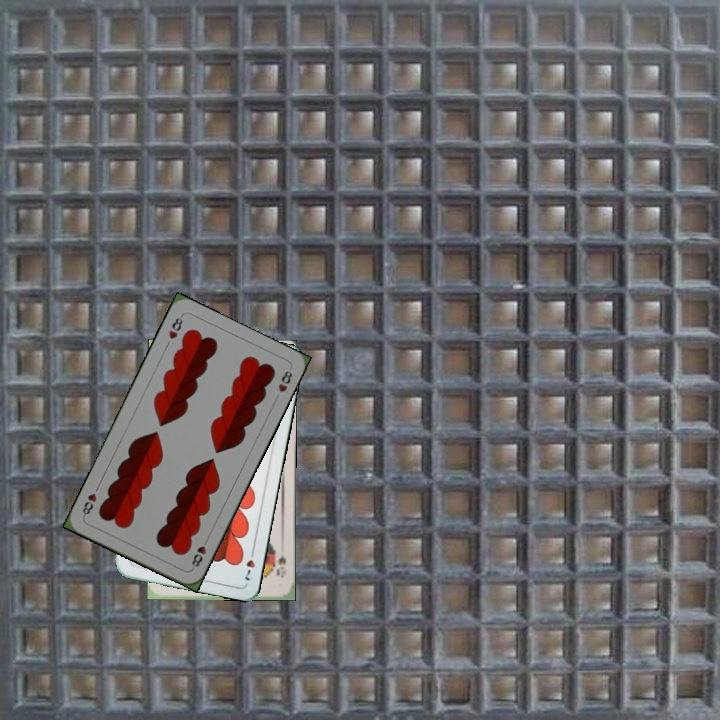H7: (241, 544, 258, 583)
H8: (187, 534, 211, 572), (164, 311, 186, 342)
SO: (271, 545, 288, 580)
